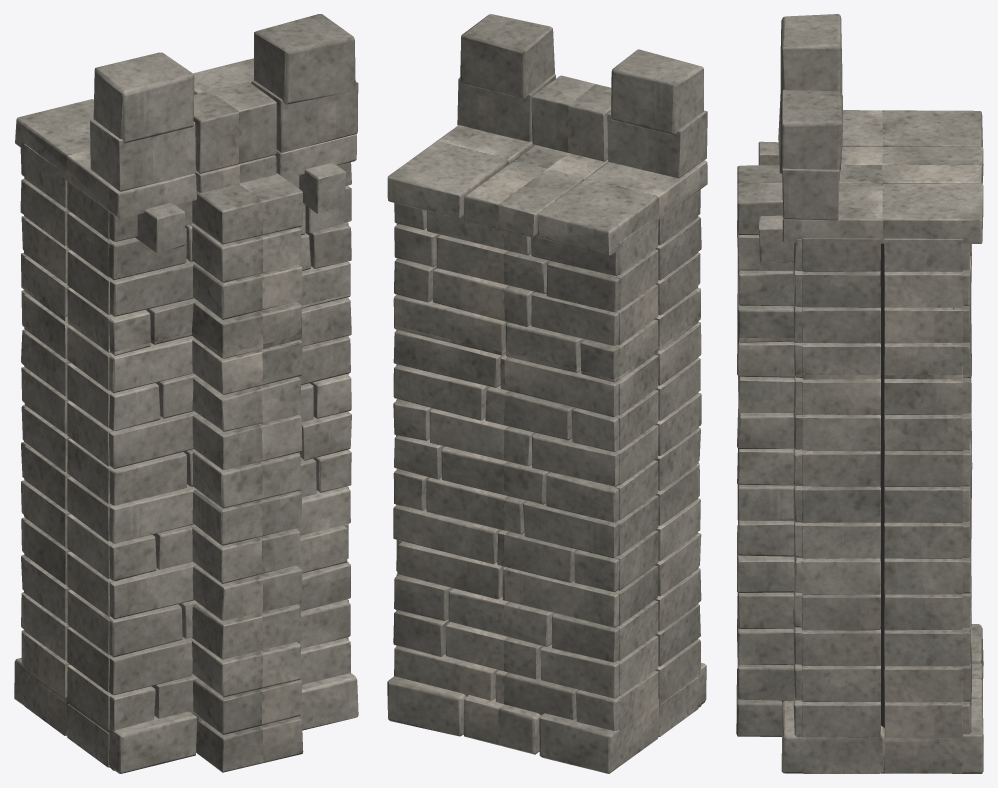
Rendered from wall_connections-LOD2.glb.
3 views of the same model, side by side, from view 1: azimuth 30°, elevation 25°; view 2: azimuth 150°, elevation 25°; view 3: azimuth 270°, elevation 25° (orthographic). The views are drawn at different scales.
Parts seen in each view (by area): view 1: Bonded ashlar course.004, Bonded ashlar course.006, Bonded ashlar course.007, Bonded ashlar course.008, Bonded ashlar course, Bonded ashlar course.002, Walkway dressed coping; view 2: Bonded ashlar course.006, Bonded ashlar course.004, Bonded ashlar course.008, Bonded ashlar course.002, Walkway dressed coping, Bonded ashlar course, Bonded ashlar course.007; view 3: Bonded ashlar course, Bonded ashlar course.007, Bonded ashlar course.004, Bonded ashlar course.008, Bonded ashlar course.006, Walkway dressed coping, Bonded ashlar course.002, Masonry recessed structural backing.
Boxes of the visible parts, left/top/right/bottom form: Bonded ashlar course.004: left=14, top=175, right=358, bottom=773; Bonded ashlar course.006: left=21, top=52, right=348, bottom=731; Bonded ashlar course.007: left=21, top=119, right=351, bottom=735; Bonded ashlar course.008: left=21, top=181, right=350, bottom=718; Bonded ashlar course: left=20, top=14, right=358, bottom=772; Bonded ashlar course.002: left=21, top=144, right=351, bottom=767; Walkway dressed coping: left=15, top=58, right=356, bottom=253; Bonded ashlar course.006: left=393, top=49, right=703, bottom=730; Bonded ashlar course.004: left=387, top=203, right=706, bottom=773; Bonded ashlar course.008: left=393, top=191, right=701, bottom=719; Bonded ashlar course.002: left=396, top=219, right=701, bottom=736; Walkway dressed coping: left=387, top=125, right=707, bottom=255; Bonded ashlar course: left=393, top=14, right=701, bottom=707; Bonded ashlar course.007: left=394, top=110, right=707, bottom=765; Bonded ashlar course: left=736, top=89, right=971, bottom=773; Bonded ashlar course.007: left=737, top=233, right=972, bottom=773; Bonded ashlar course.004: left=737, top=244, right=983, bottom=773; Bonded ashlar course.008: left=737, top=244, right=971, bottom=737; Bonded ashlar course.006: left=737, top=14, right=971, bottom=734; Walkway dressed coping: left=758, top=110, right=983, bottom=262; Bonded ashlar course.002: left=737, top=239, right=971, bottom=626; Masonry recessed structural backing: left=880, top=243, right=884, bottom=727.
Size of the model in its own units: 2 by 5.44 by 1.87.
8 materials, 7 textured.
